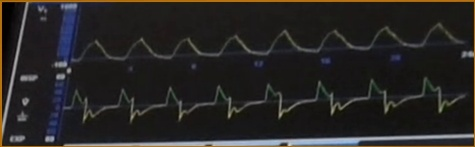Premature_cycling Flow: (68, 75, 464, 126)
Premature_cycling Volume: (75, 14, 465, 64)
